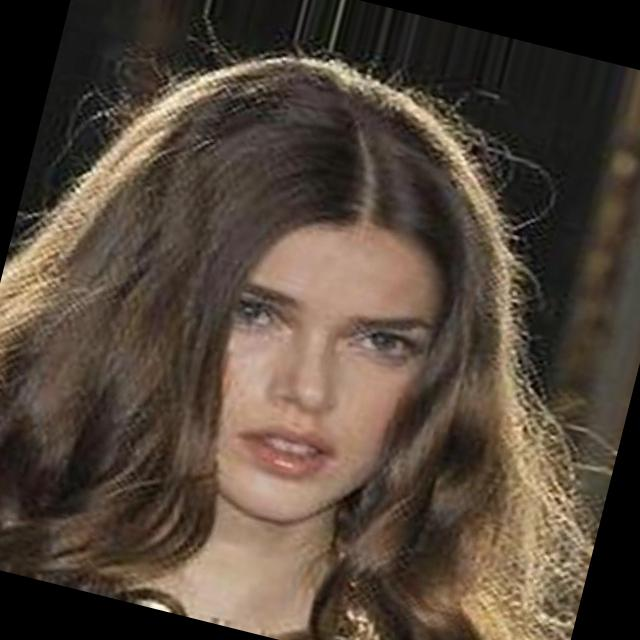bareface: (67, 82, 514, 580)
